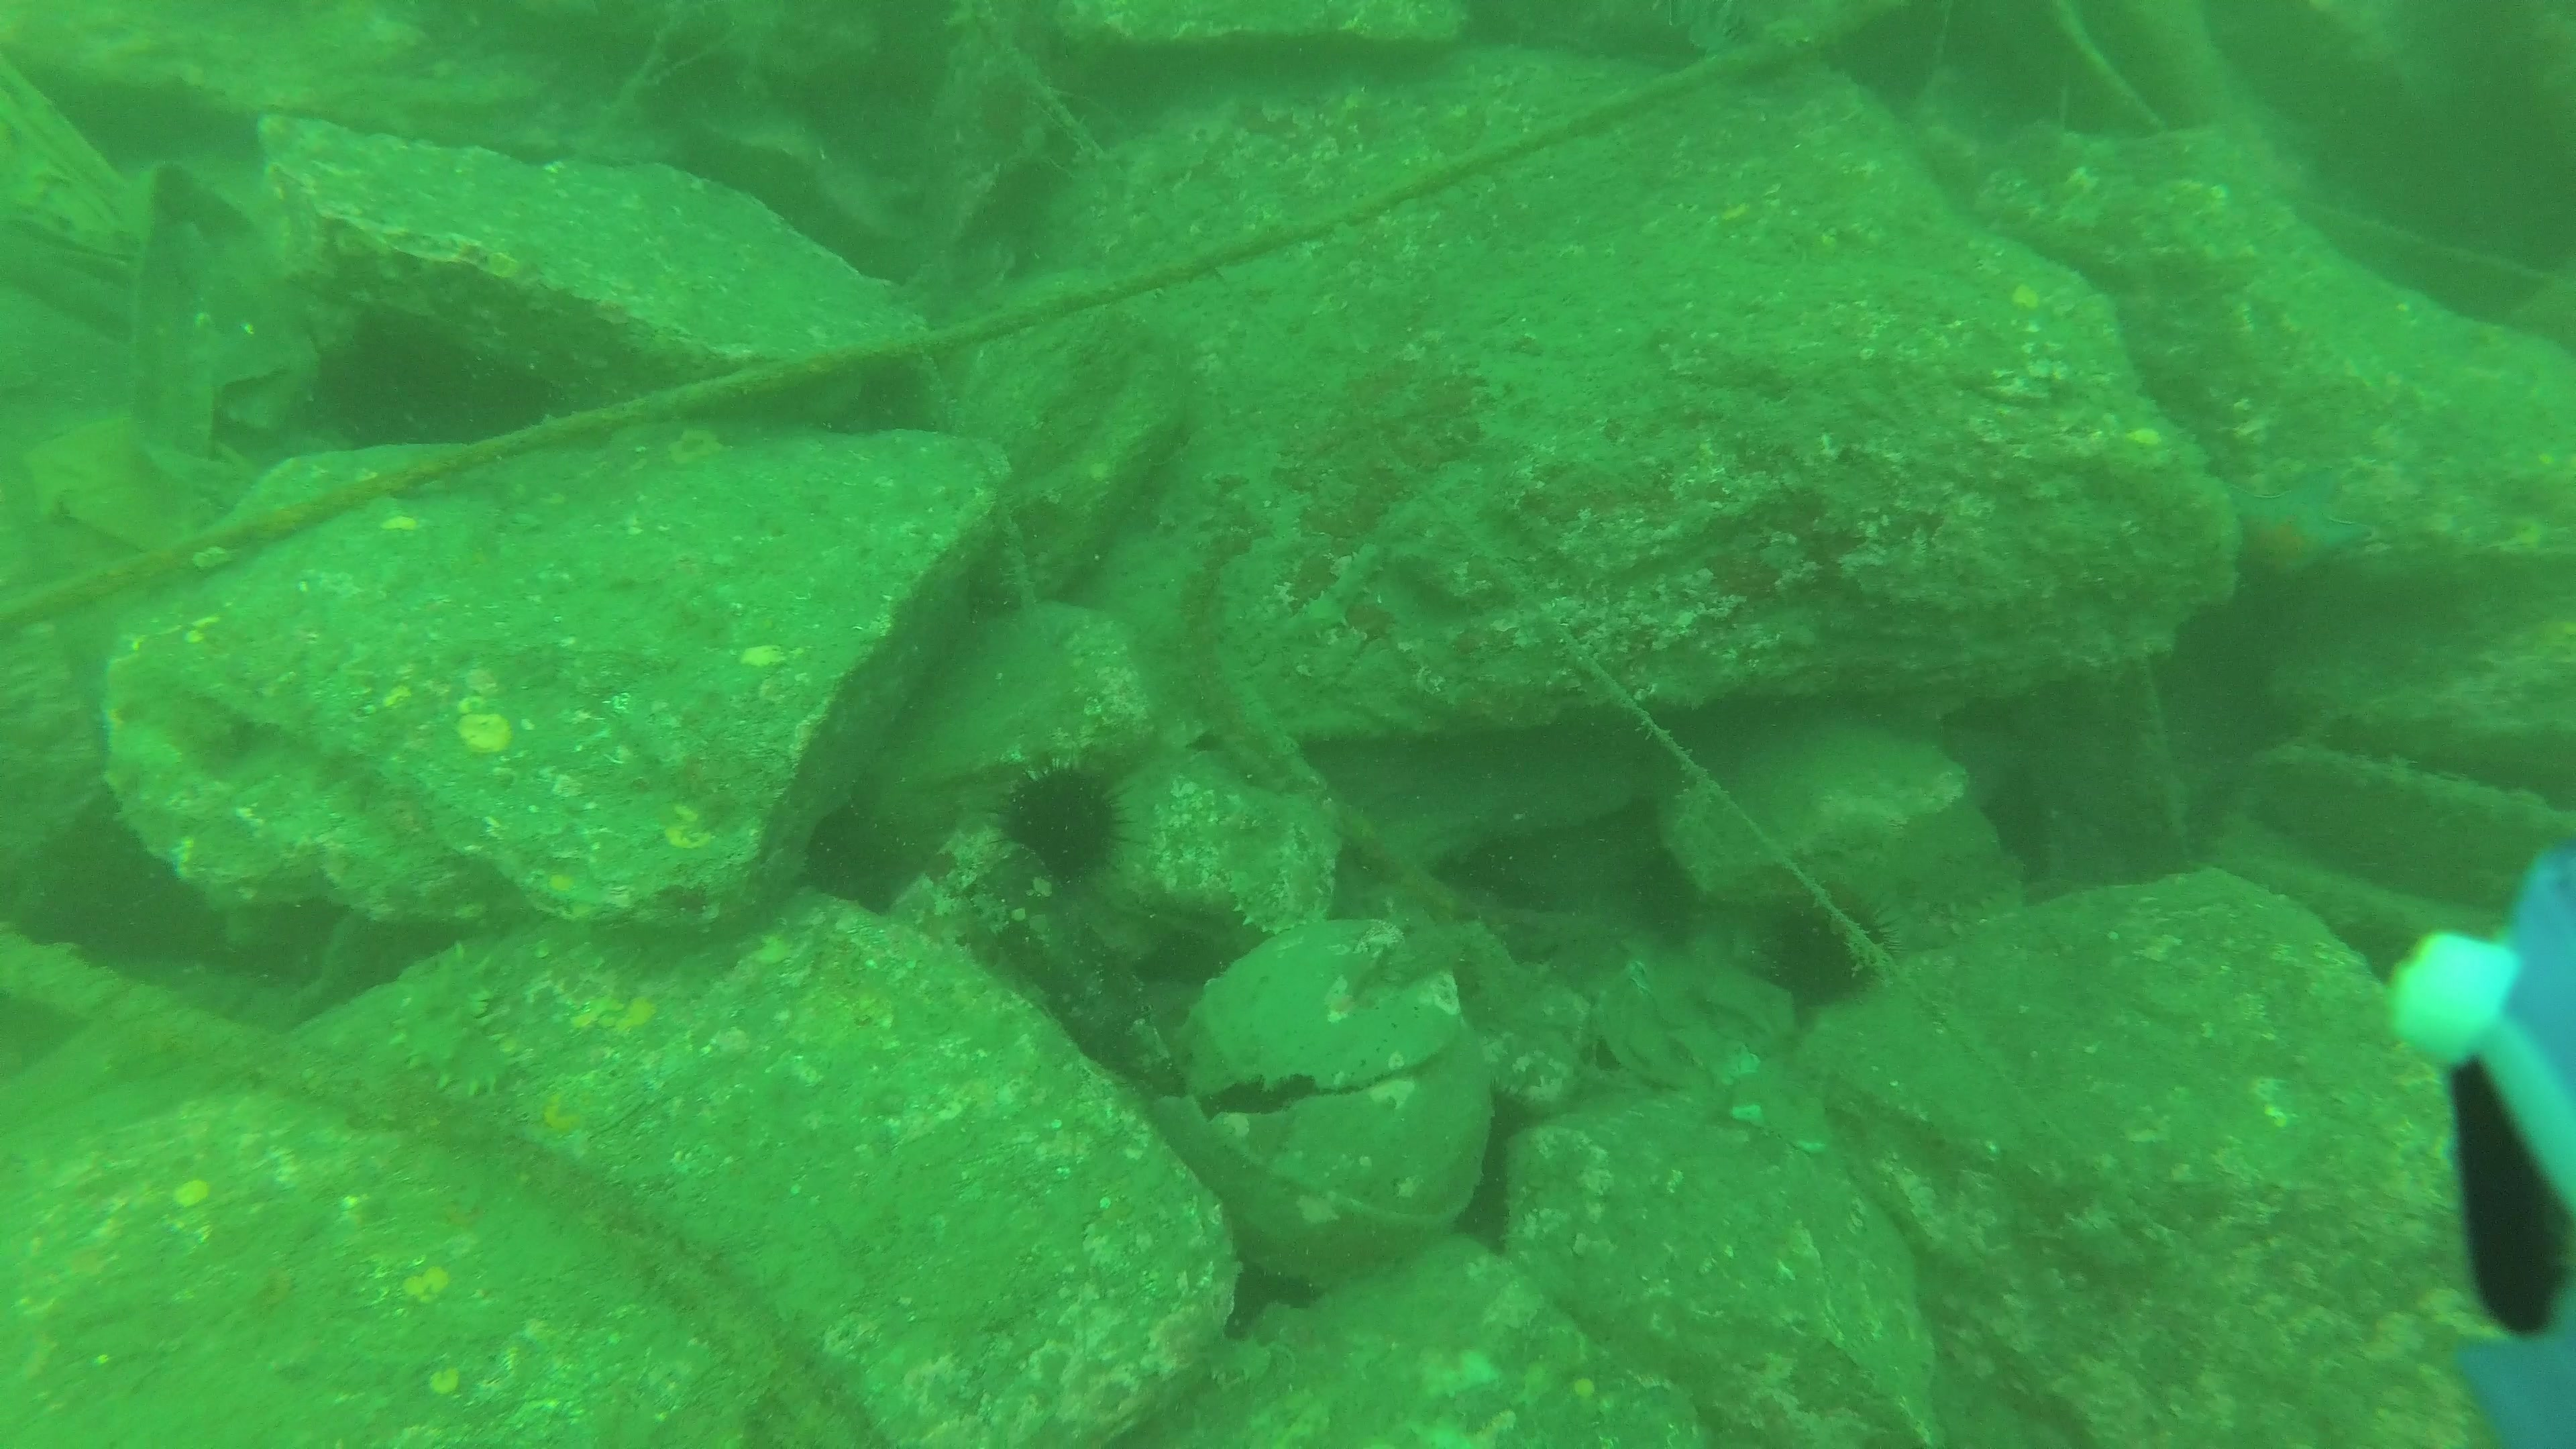echinus: (989, 750, 1136, 895), (1757, 885, 1905, 1012)
starfish: (2213, 458, 2381, 603)
